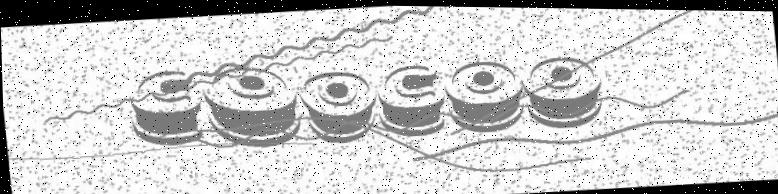c: (125, 66, 204, 148), (373, 60, 447, 138)
o: (200, 61, 303, 151), (520, 52, 606, 131), (296, 66, 380, 146), (440, 56, 526, 134)
